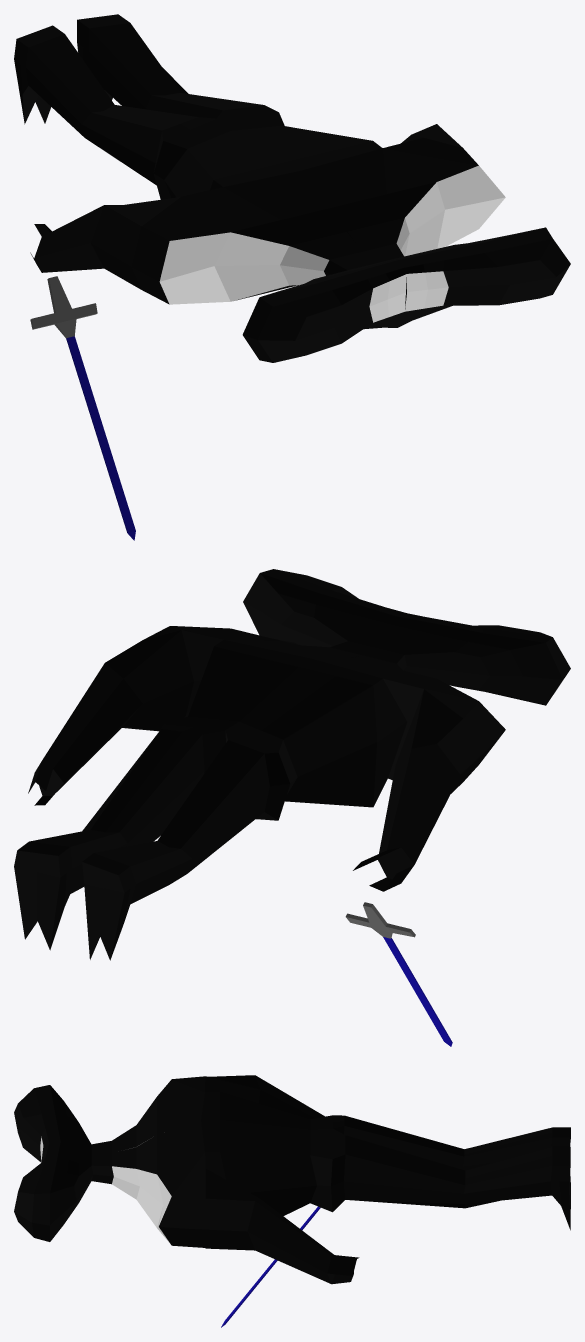
File: Swordsman1d.obj
The picture shows the model from 3 angles, top to bottom: view 1: azimuth 30°, elevation 25°; view 2: azimuth 150°, elevation 25°; view 3: azimuth 270°, elevation 25°; orthographic projection. The views are drawn at different scales.
Visible parts, largest first — view 1: Cube, Plane; view 2: Cube, Plane; view 3: Cube, Plane.
Part boxes in pixels (box(x1,y1,x2,y2)): Cube: box(14, 14, 570, 362); Plane: box(30, 276, 135, 540); Cube: box(14, 569, 570, 960); Plane: box(345, 902, 452, 1046); Cube: box(14, 1075, 570, 1284); Plane: box(221, 1206, 320, 1327).
Bounding box in the file's own units: 0.9999 × 0.858 × 1.63.
